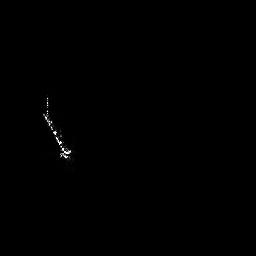ship: (38, 94, 73, 164)
